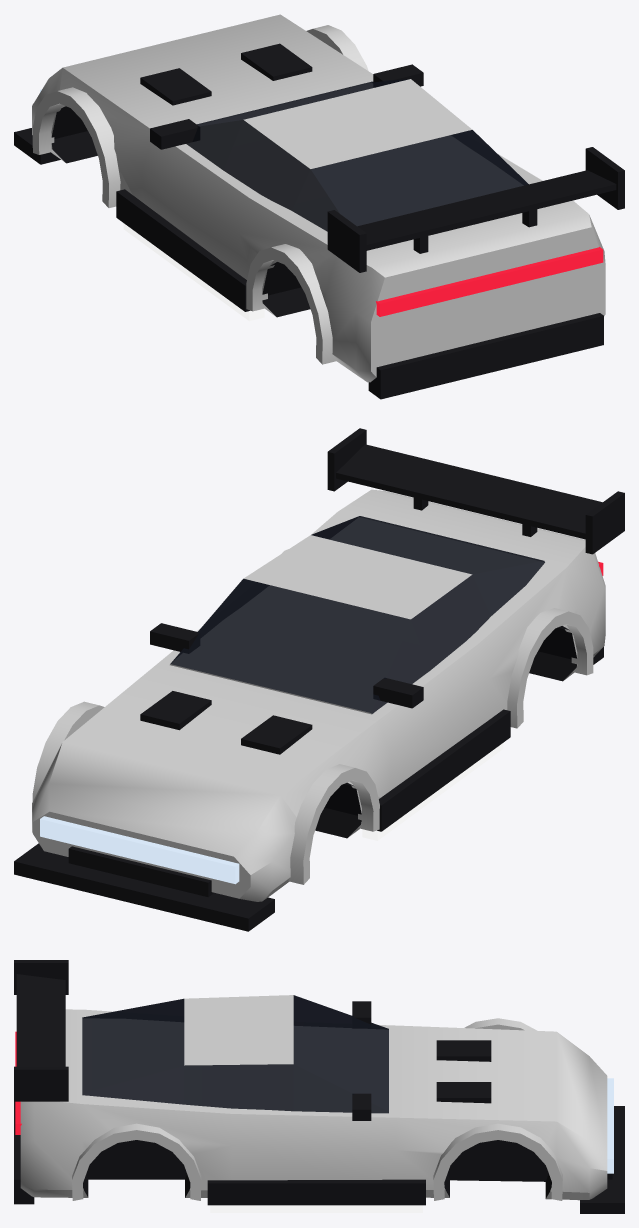
The model's file is car_body.glb.
3 renders of one model, top to bottom at view 1: azimuth 30°, elevation 25°; view 2: azimuth 150°, elevation 25°; view 3: azimuth 270°, elevation 25°, orthographic. The views are drawn at different scales.
Parts seen in each view (by area): view 1: car_body; view 2: car_body; view 3: car_body.
Boxes of the visible parts, <box> form: car_body: <box>14,14,624,399</box>; car_body: <box>14,428,624,931</box>; car_body: <box>14,960,624,1213</box>.
Size of the model in its own units: 1.94 by 1.22 by 4.48.
